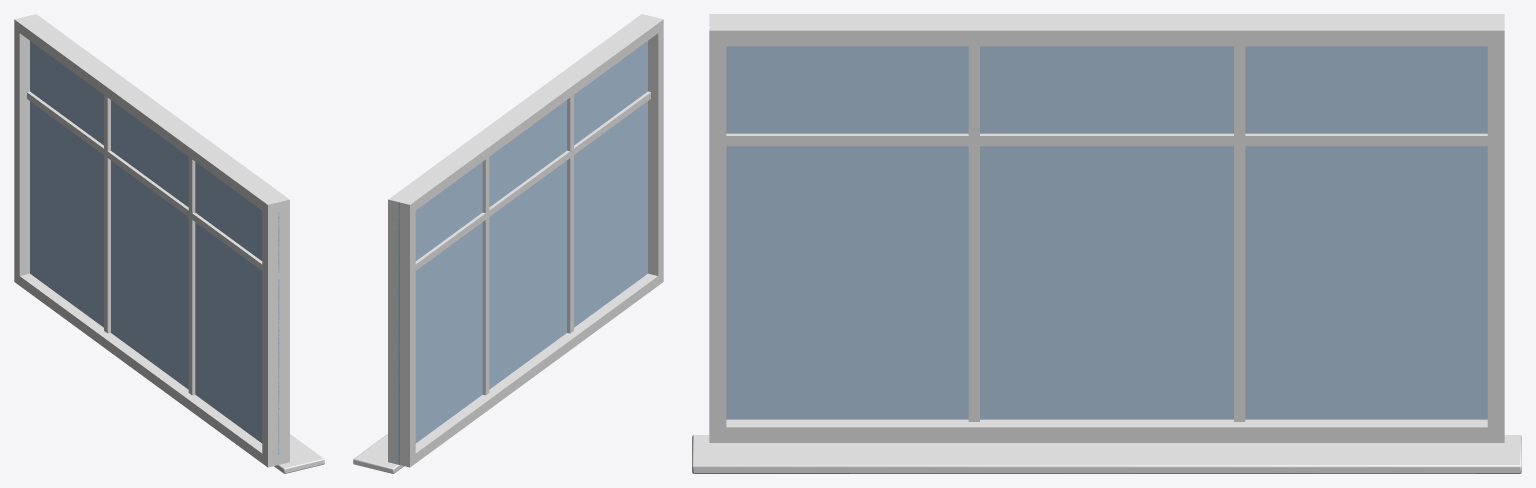
Rendered from window.fbx.
3 renders of one model, left to right at view 1: azimuth 30°, elevation 25°; view 2: azimuth 150°, elevation 25°; view 3: azimuth 270°, elevation 25°, orthographic. The views are drawn at different scales.
Visible parts, largest first — view 1: Glass, WindowFrame; view 2: Glass, WindowFrame; view 3: Glass, WindowFrame.
Part boxes in pixels (box(x1,y1,x2,y2)): Glass: box(30, 41, 279, 454); WindowFrame: box(14, 14, 324, 473); Glass: box(398, 41, 647, 464); WindowFrame: box(353, 14, 663, 473); Glass: box(726, 46, 1487, 419); WindowFrame: box(692, 14, 1521, 473).
Bounding box in the file's own units: 0.33 × 1.64 × 2.92.
